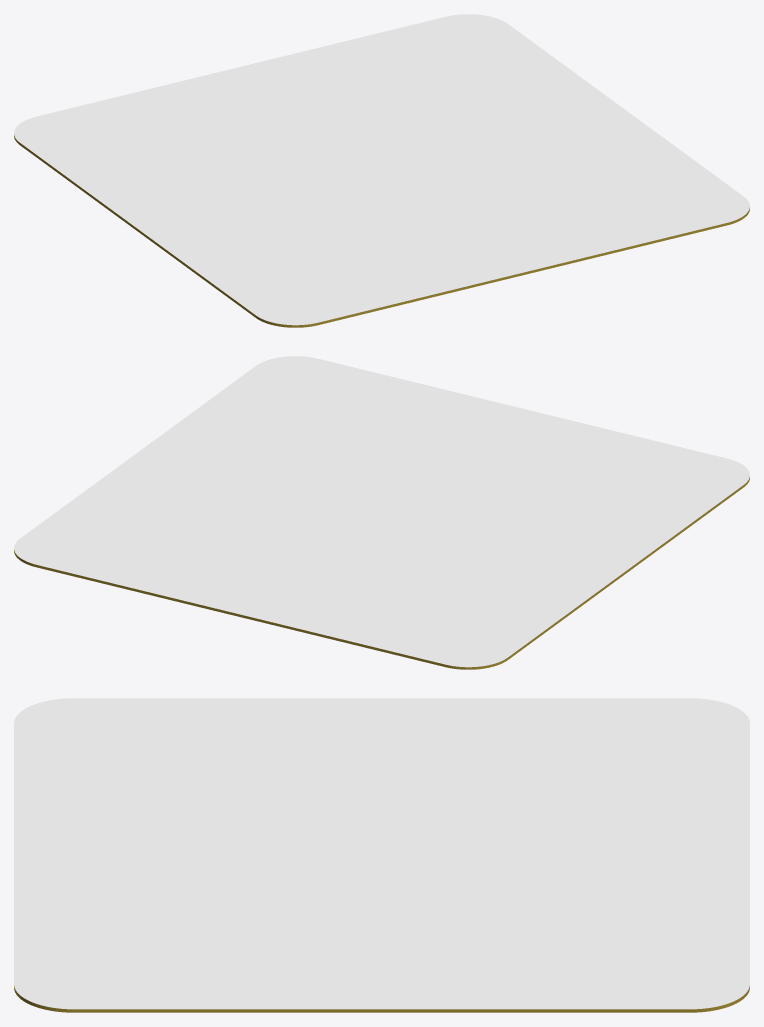
File: StickyNote.glb
3 views of the same model, one above another, from view 1: azimuth 30°, elevation 25°; view 2: azimuth 150°, elevation 25°; view 3: azimuth 270°, elevation 25° (orthographic). The views are drawn at different scales.
Parts seen in each view (by area): view 1: Cube; view 2: Cube; view 3: Cube.
Part boxes in pixels (x1,y1,x2,y2): Cube: (14,14,749,327); Cube: (14,356,749,669); Cube: (14,698,749,1012).
Bounding box in the file's own units: 8.75 × 0.0443 × 8.75.
